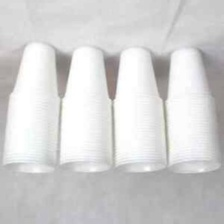glass: (165, 39, 223, 179), (1, 38, 61, 173), (108, 42, 168, 175), (55, 39, 114, 174)
